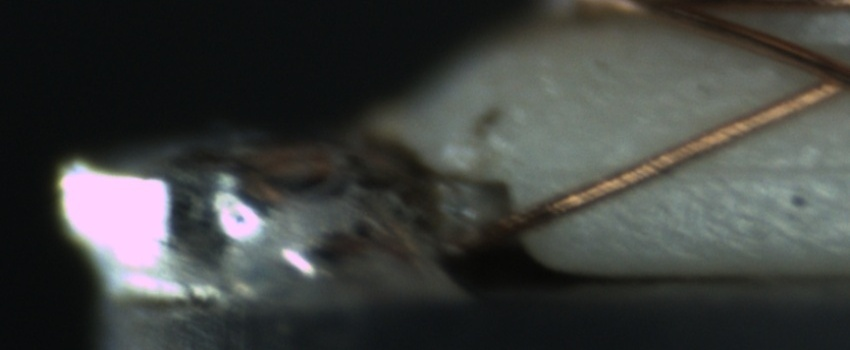CL: (795, 49, 849, 104)
DL: (617, 137, 848, 203)
